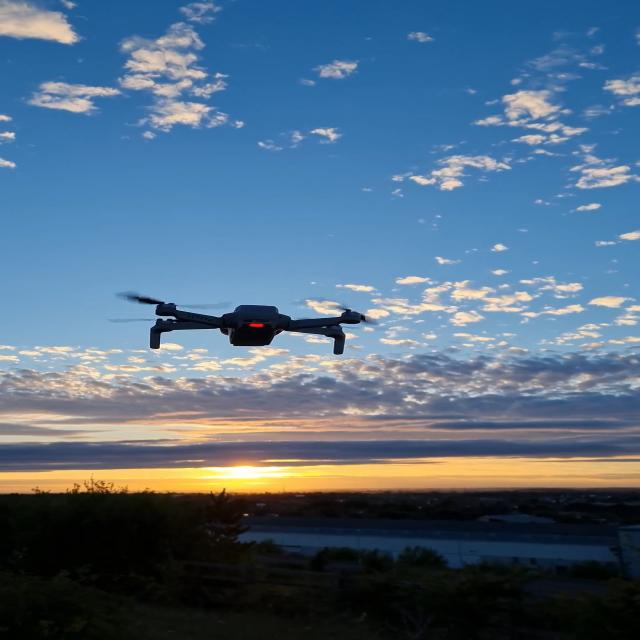Drone: (100, 289, 420, 368)
